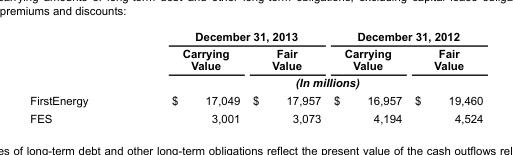table: (29, 29, 482, 124)
table column: (129, 29, 245, 124), (29, 29, 129, 124), (245, 29, 326, 124), (326, 29, 407, 124), (407, 29, 482, 124)
table column header: (29, 29, 482, 91)
table row: (29, 44, 482, 73), (29, 73, 482, 91), (29, 91, 482, 109), (29, 29, 482, 44), (29, 109, 482, 124)
table spanning cell: (129, 73, 482, 91), (129, 29, 326, 44), (326, 29, 482, 44)
